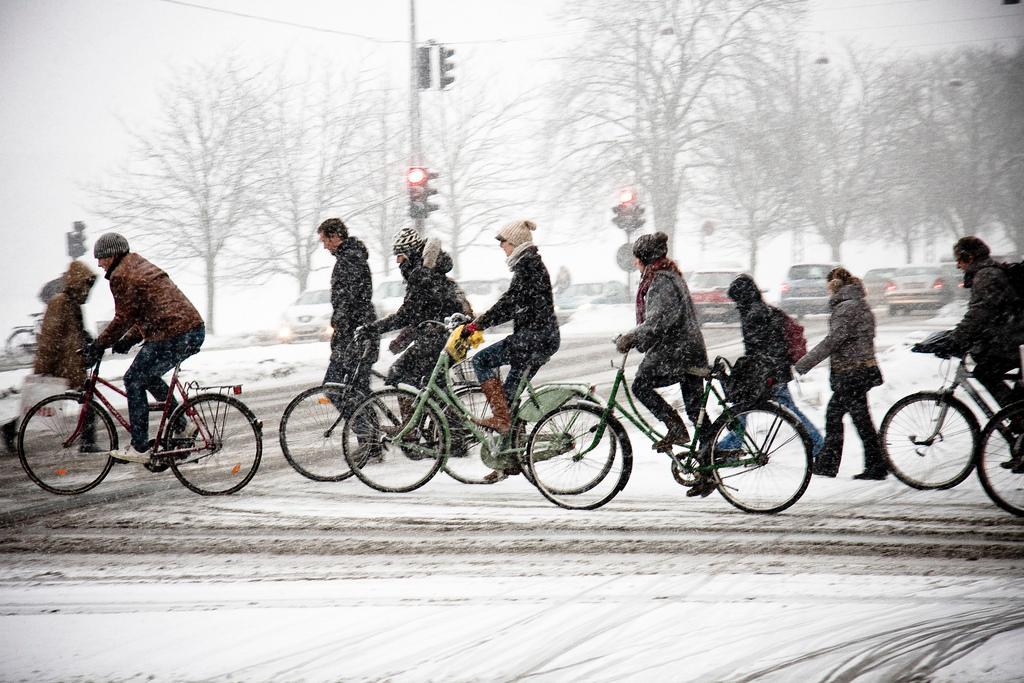commuter: (522, 230, 813, 520), (347, 220, 621, 495), (17, 232, 266, 502), (274, 229, 511, 482)
